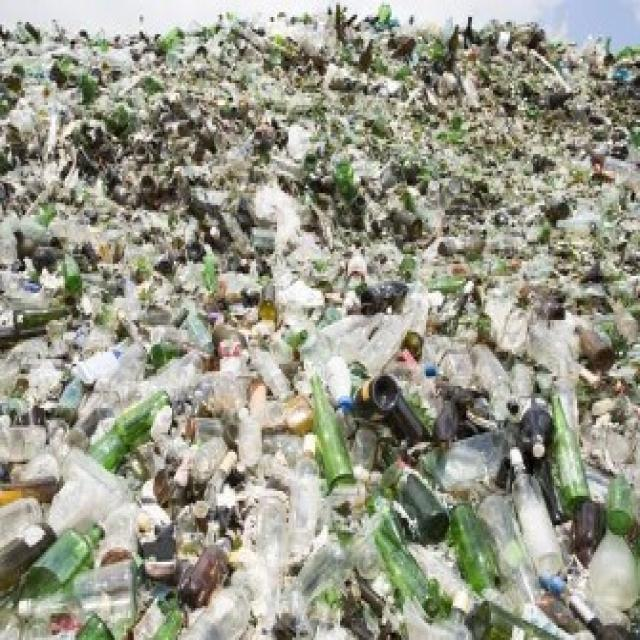electronic: (305, 360, 591, 615)
